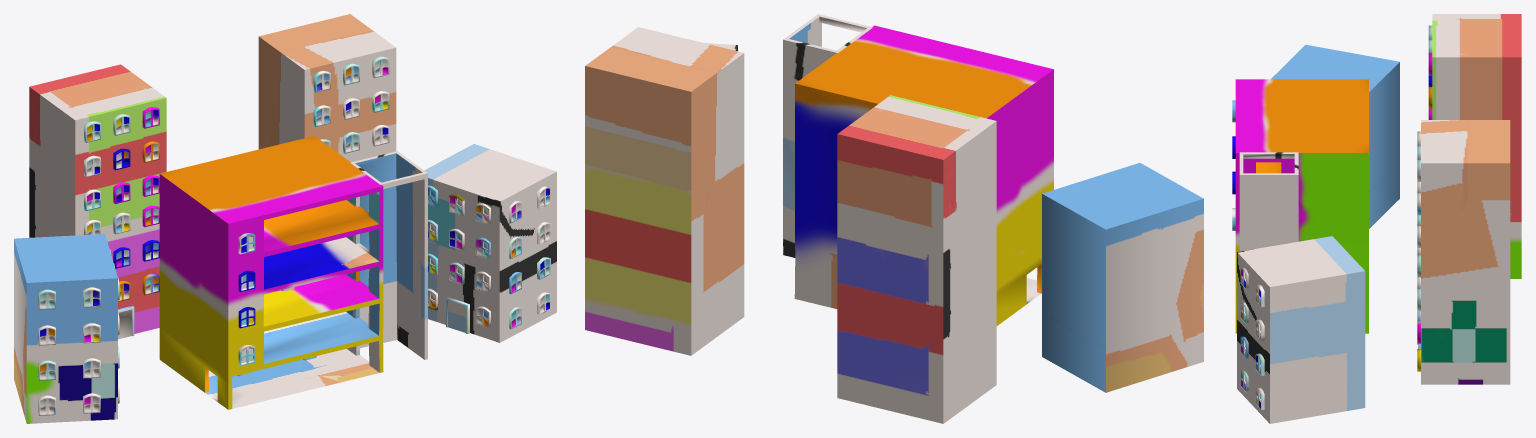
File: Predios.fbx
3 views of the same model, side by side, from view 1: azimuth 30°, elevation 25°; view 2: azimuth 150°, elevation 25°; view 3: azimuth 270°, elevation 25° (orthographic). The views are drawn at different scales.
Parts seen in each view (by area): view 1: Predio; view 2: Predio; view 3: Predio.
Boxes of the visible parts, left/top/right/bottom form: Predio: left=14, top=14, right=556, bottom=423; Predio: left=585, top=14, right=1203, bottom=423; Predio: left=1232, top=14, right=1521, bottom=423.
Bounding box in the file's own units: 10516 × 4508 × 5299.
